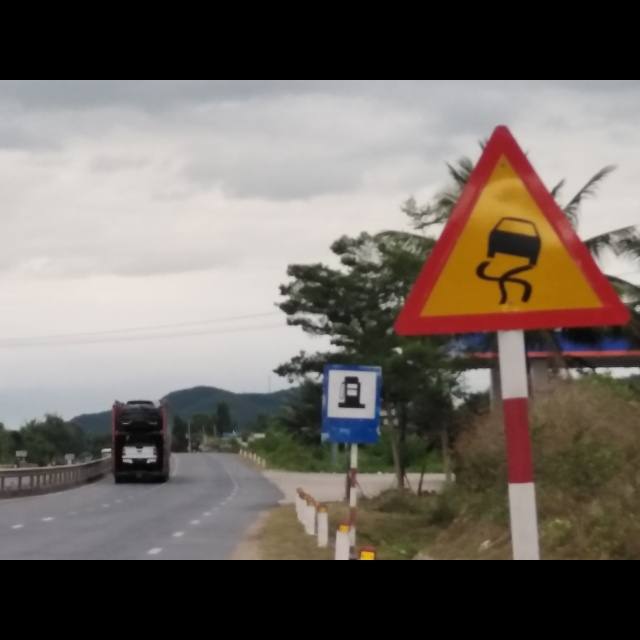Đường trơn trượt: (385, 124, 633, 339)
